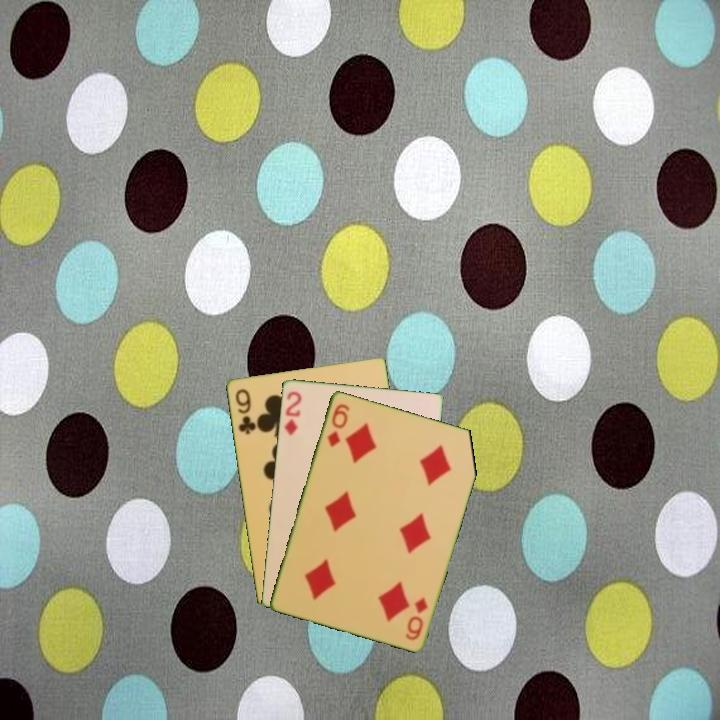2d: (280, 388, 304, 438)
6d: (323, 400, 352, 450), (402, 593, 430, 643)
9c: (231, 385, 258, 437)
